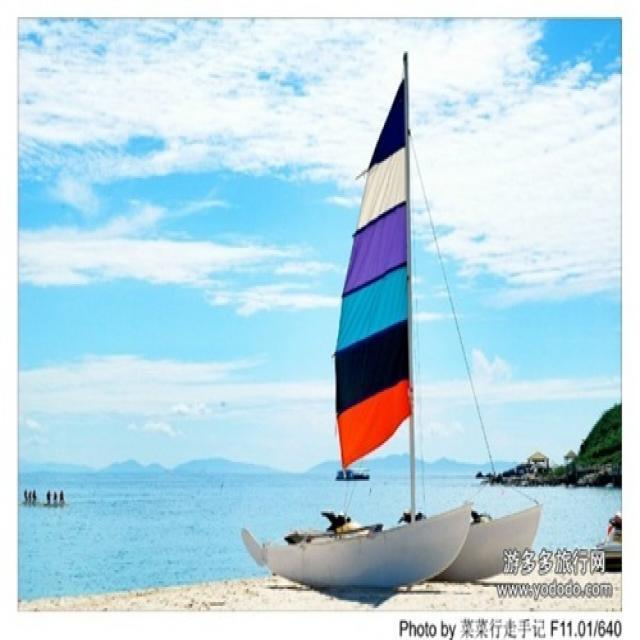Ship: (262, 50, 542, 604)
